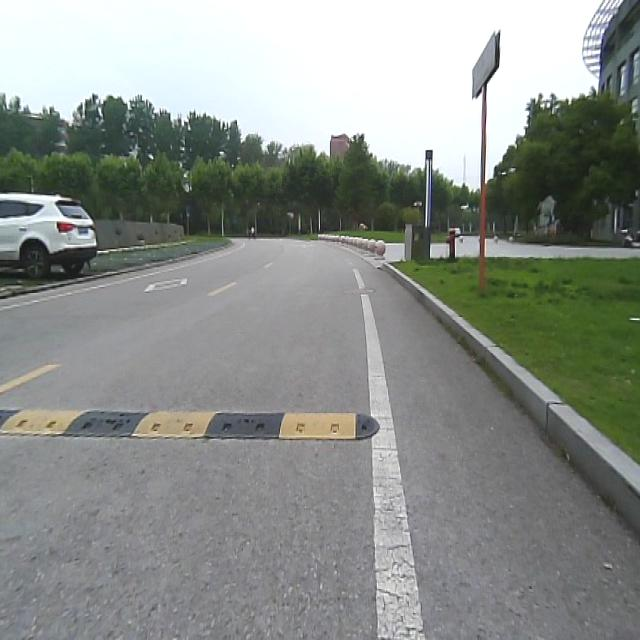Speed Bump: (0, 397, 381, 443)
